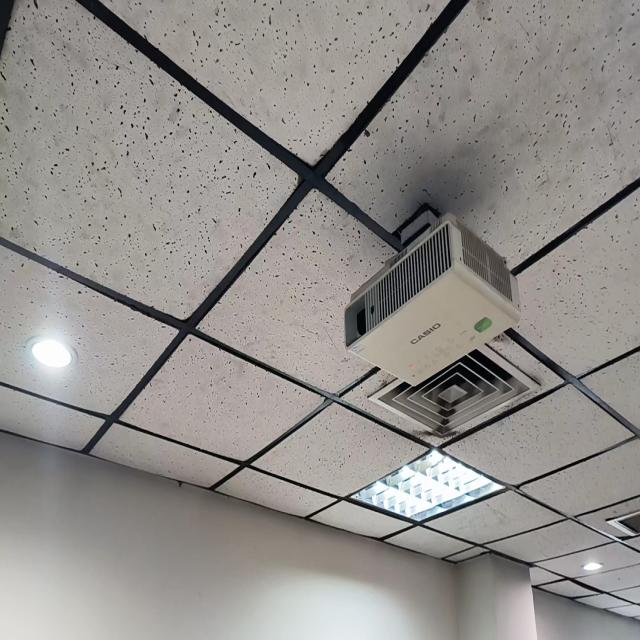Light: (351, 450, 503, 521), (31, 340, 72, 367), (583, 562, 602, 571)
Projector: (344, 215, 521, 385)
